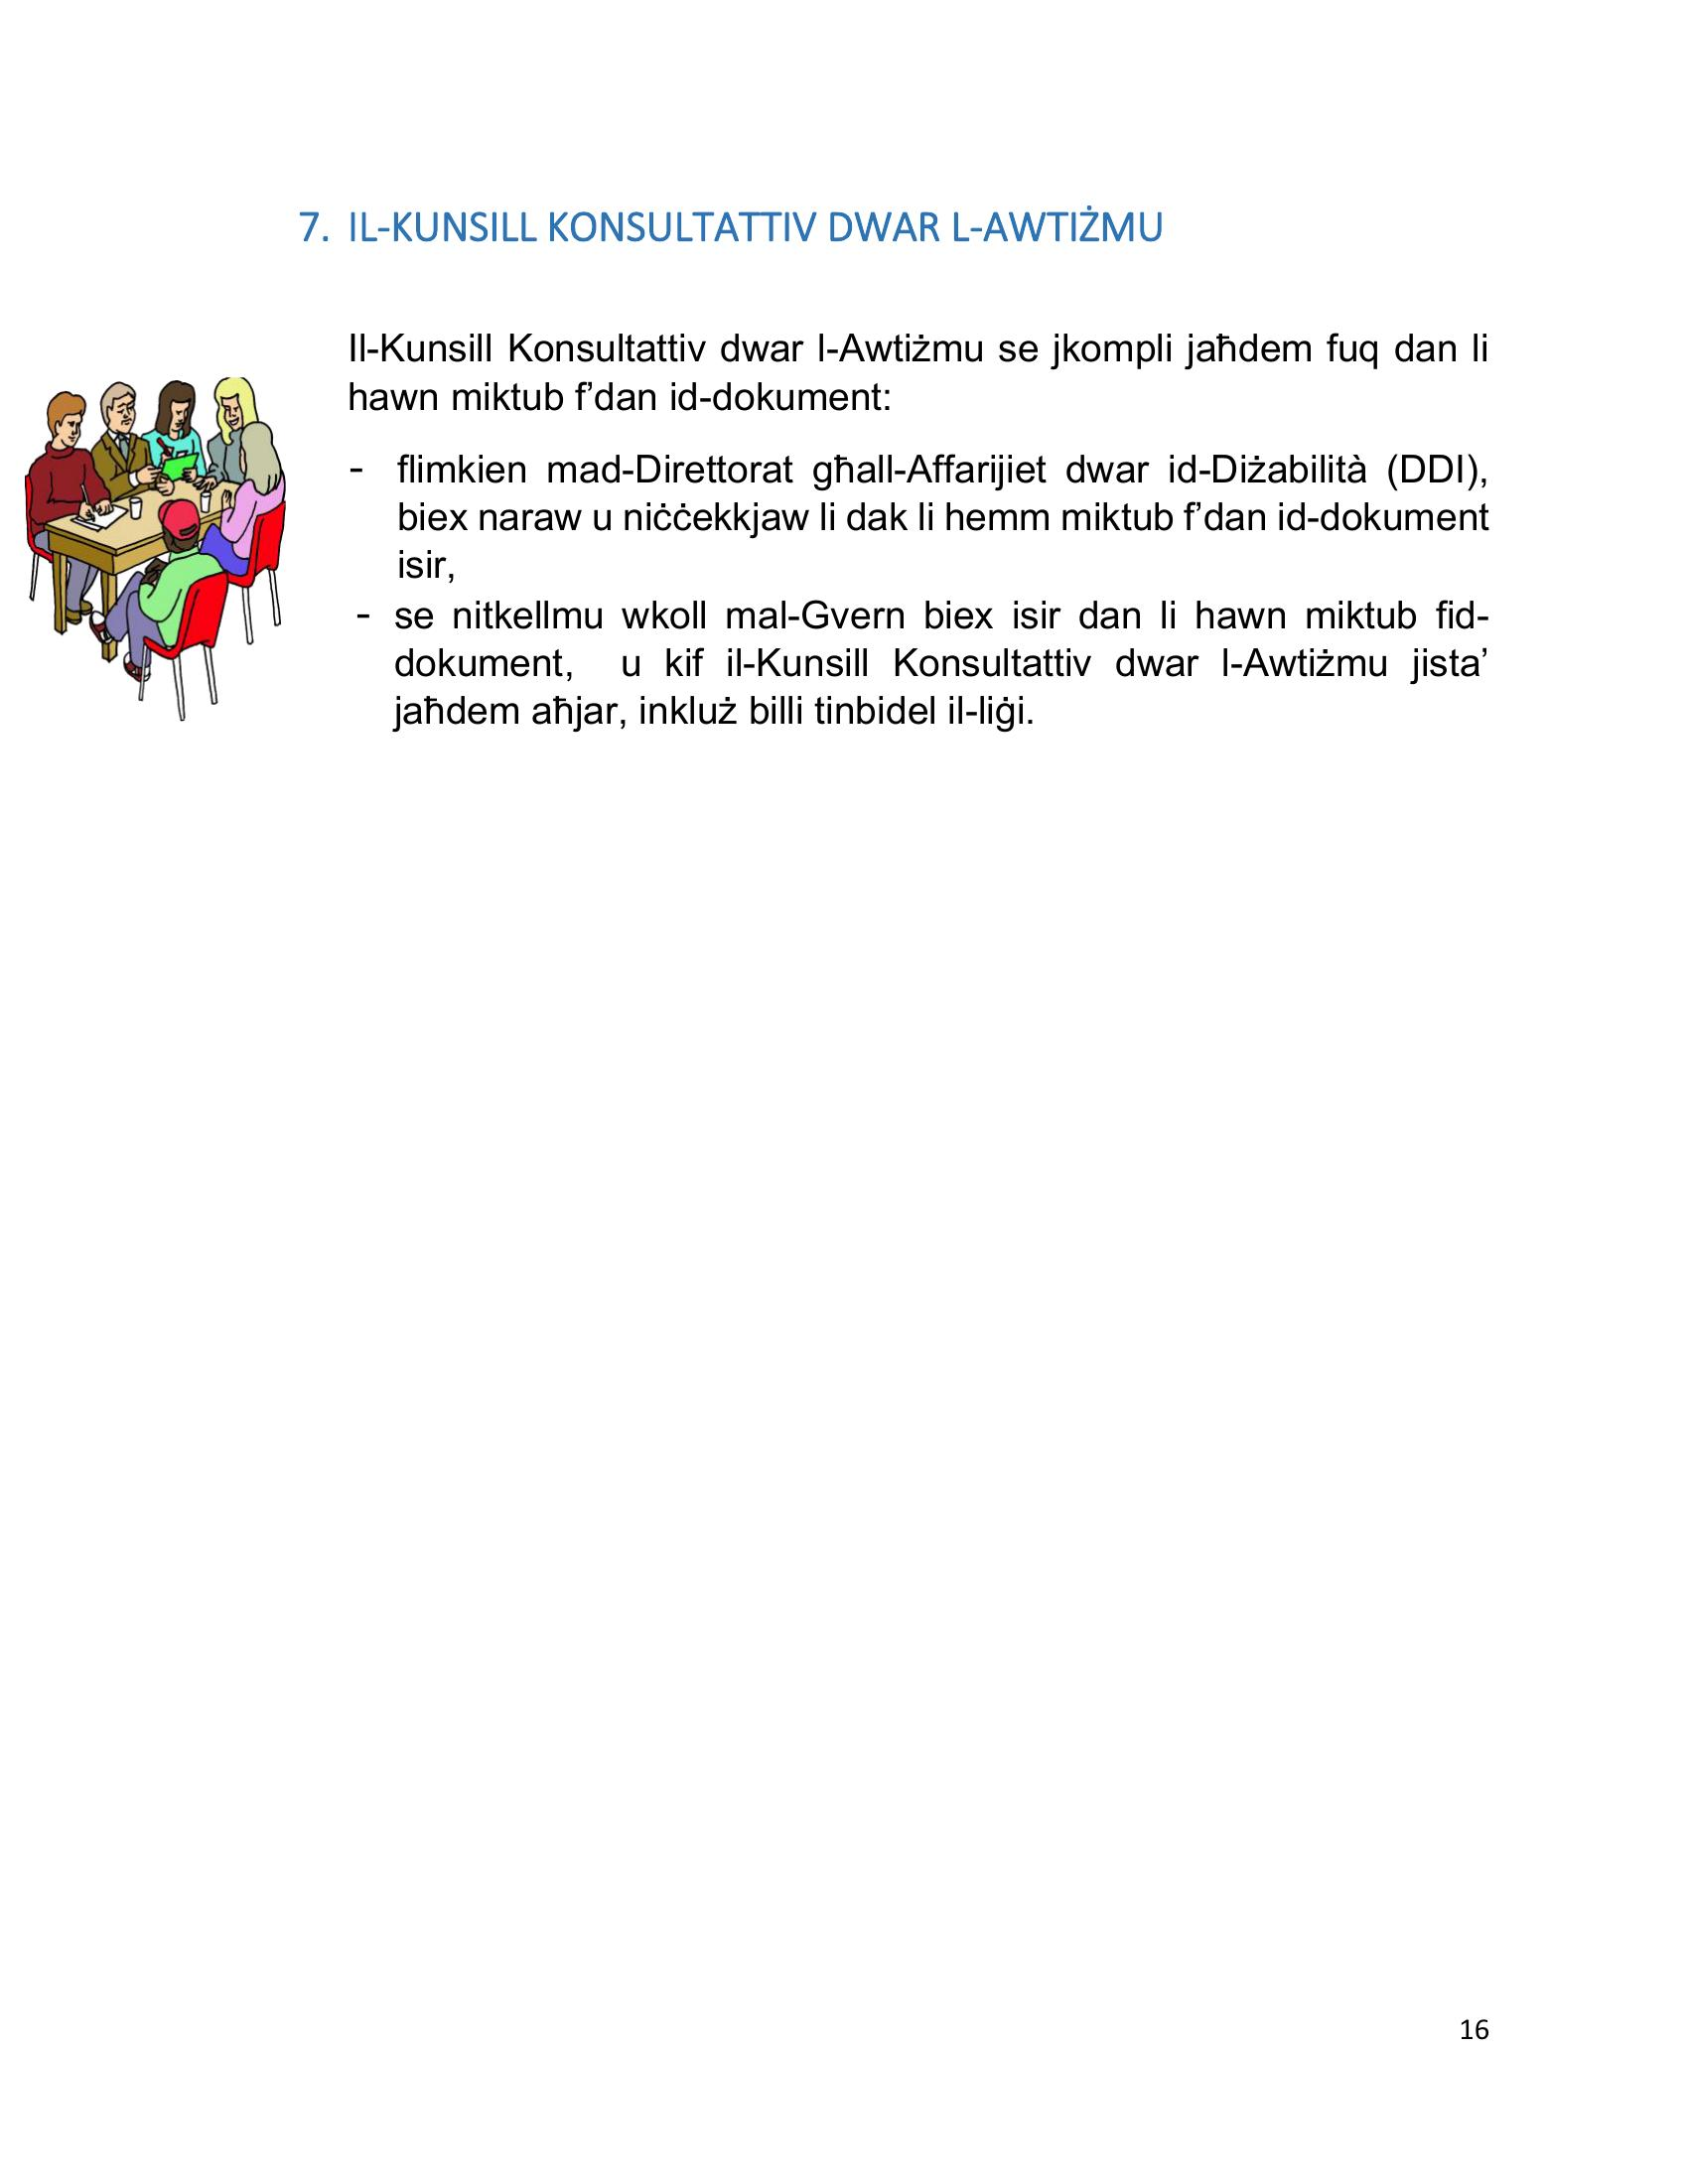text: (326, 301, 1514, 764), (287, 175, 1181, 269)
